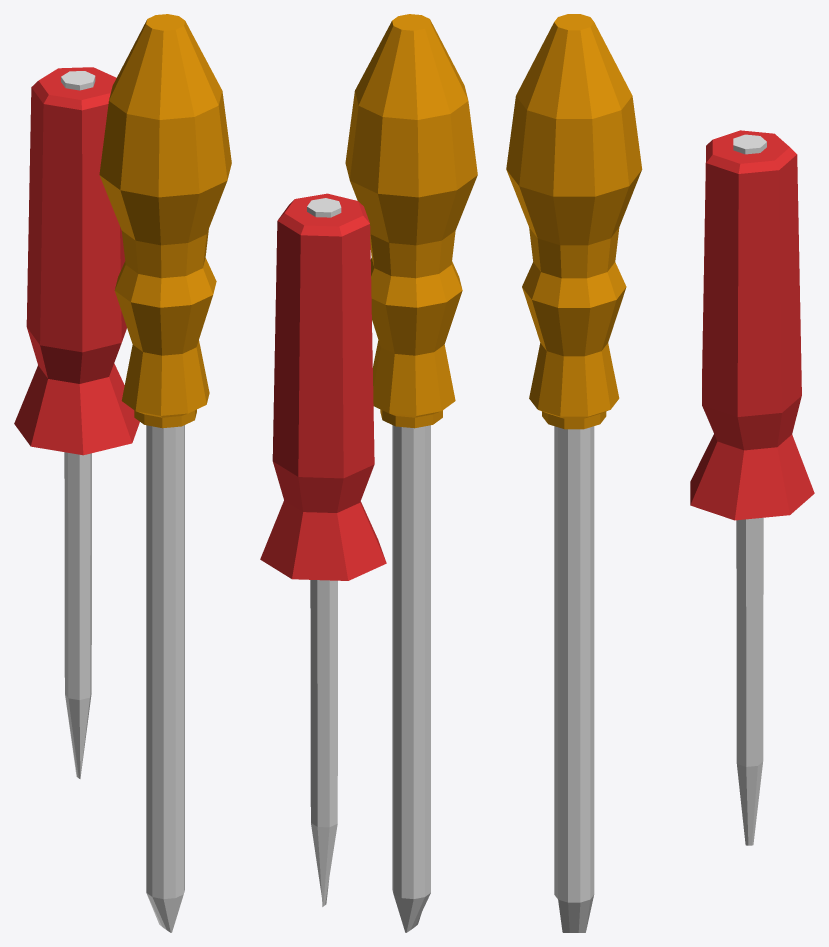
Rendered from screwdriver.fbx.
3 renders of one model, left to right at view 1: azimuth 30°, elevation 25°; view 2: azimuth 150°, elevation 25°; view 3: azimuth 270°, elevation 25°, orthographic.
Parts seen in each view (by area): view 1: Cylinder, Cylinder.005; view 2: Cylinder, Cylinder.005; view 3: Cylinder, Cylinder.005.
Boxes of the visible parts, x1,y1,x2,y2 form: Cylinder: (99,14,231,932); Cylinder.005: (14,67,139,778); Cylinder: (345,14,477,932); Cylinder.005: (260,193,386,906); Cylinder: (506,14,642,932); Cylinder.005: (690,130,814,845).
Bounding box in the file's own units: 53.63 × 416 × 128.
